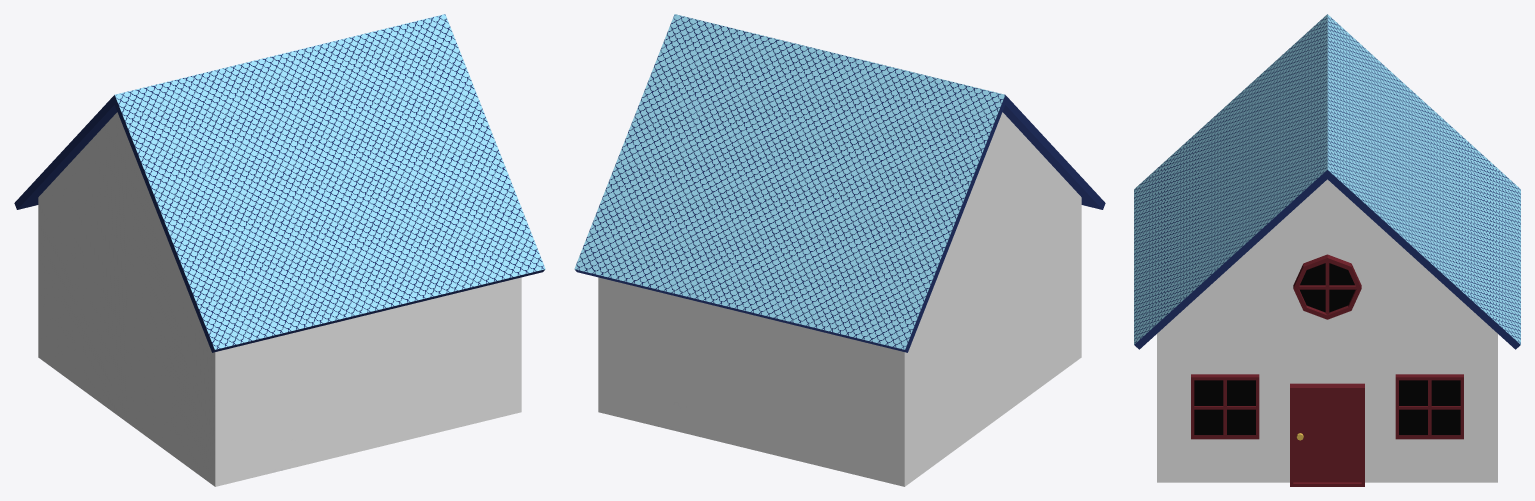
The model's file is house.fbx.
The picture shows the model from 3 angles, left to right: view 1: azimuth 30°, elevation 25°; view 2: azimuth 150°, elevation 25°; view 3: azimuth 270°, elevation 25°; orthographic projection. The views are drawn at different scales.
Visible parts, largest first — view 1: house; view 2: house; view 3: house, door.
Part boxes in pixels (x1,y1,x2,y2): house: (14, 14, 545, 486); house: (574, 14, 1105, 486); house: (1134, 14, 1520, 486); door: (1293, 391, 1361, 482).
Size of the model in its own units: 1080 by 1031 by 1134.
1 material, 1 textured.
